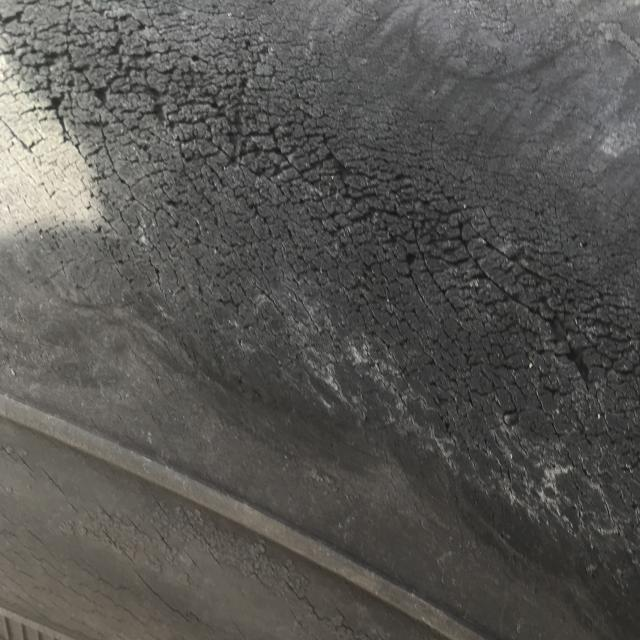Cracks: (0, 0, 640, 458)
